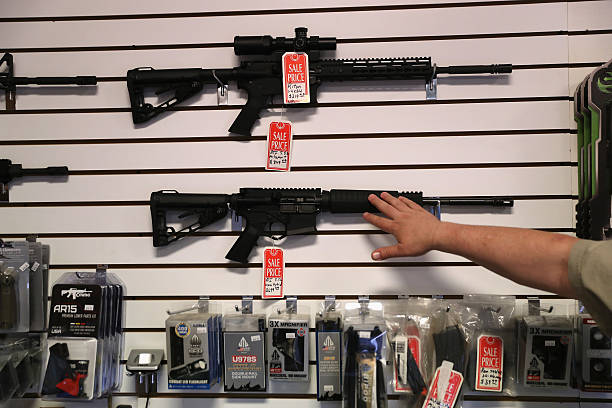rifle: (125, 29, 517, 151), (143, 179, 522, 269)
